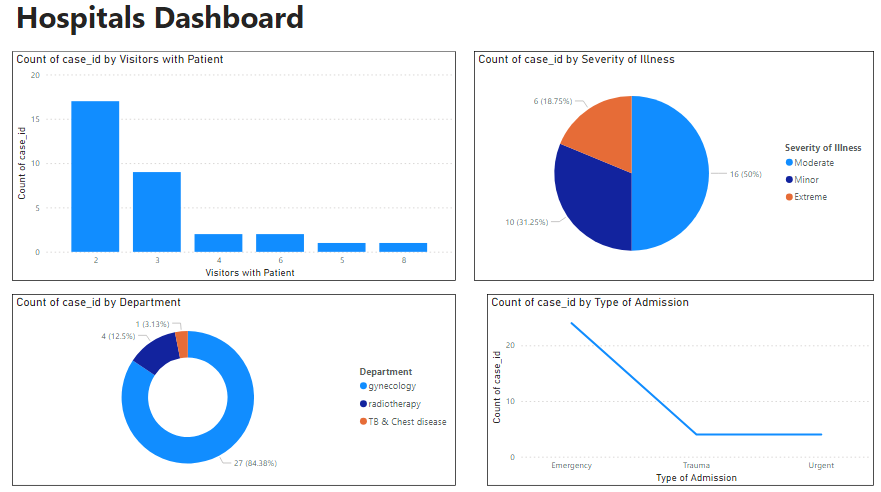

This screenshot's page, from the dashboard's own definition file:
{"tool":"powerbi","page":{"name":"Hospitals Dashboard","canvas":[1280,720],"ordinal":0},"visuals":[{"type":"lineStackedColumnComboChart","fields":{"Y":["CountNonNull(Admission Information.case_id)"],"Category":["Admission Information.Visitors with Patient"]},"box":[25.9,83.5,639.4,331.2],"z":0},{"type":"pieChart","fields":{"Y":["CountNonNull(Admission Information.case_id)"],"Category":["Admission Information.Severity of Illness"]},"box":[691.2,83.5,576,331.2],"z":1},{"type":"donutChart","fields":{"Category":["Admission Information.Department"],"Y":["CountNonNull(Admission Information.case_id)"]},"box":[25.9,433.4,639.4,276.5],"z":2},{"type":"lineChart","fields":{"Category":["Admission Information.Type of Admission"],"Y":["CountNonNull(fact.case_id)"]},"box":[709.9,433.4,557.3,276.5],"z":3},{"type":"textbox","box":[25.9,0,639.4,83.5],"z":4}]}

Visuals, with their boxes in screenshot pixels (x1, y1, x2, y2), scaled from the page's 1280x720 canvas onto the 881x492 screenshot:
lineStackedColumnComboChart - CountNonNull(Admission Information.case_id) x Admission Information.Visitors with Patient: (18,57,458,283)
pieChart - CountNonNull(Admission Information.case_id) x Admission Information.Severity of Illness: (476,57,872,283)
donutChart - Admission Information.Department x CountNonNull(Admission Information.case_id): (18,296,458,485)
lineChart - Admission Information.Type of Admission x CountNonNull(fact.case_id): (489,296,872,485)
textbox: (18,0,458,57)
